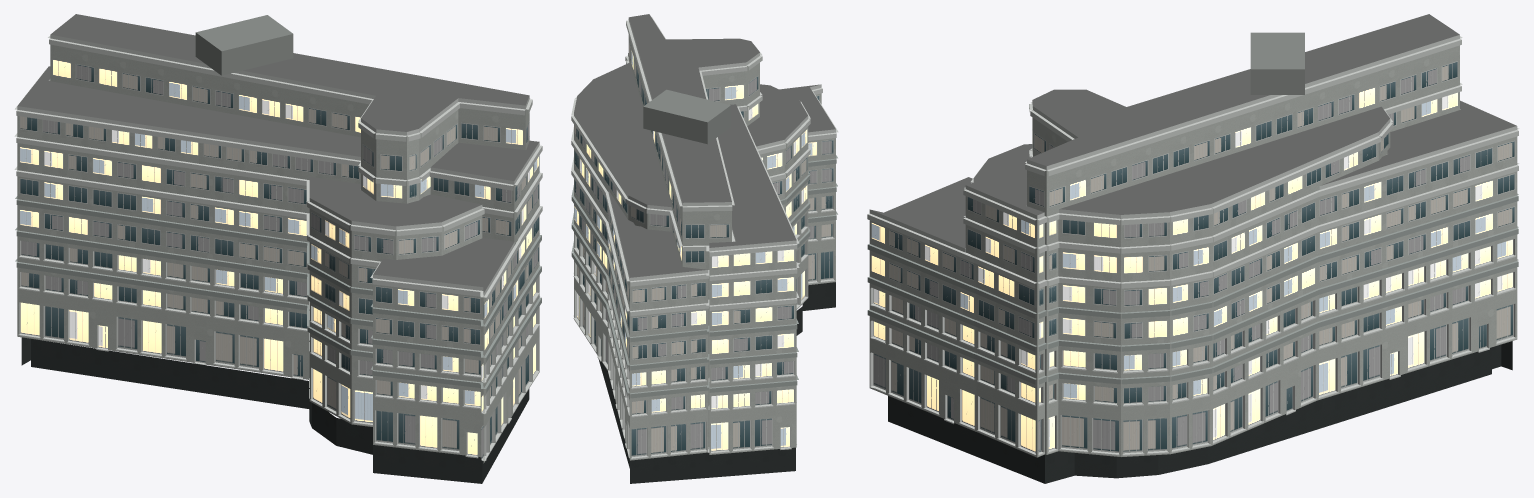
The model's file is apollo.glb.
The picture shows the model from 3 angles, left to right: view 1: azimuth 30°, elevation 25°; view 2: azimuth 150°, elevation 25°; view 3: azimuth 270°, elevation 25°; orthographic projection. The views are drawn at different scales.
Visible parts, largest first — view 1: apollo; view 2: apollo; view 3: apollo.
Part boxes in pixels (x1,y1,x2,y2): apollo: (14,14,542,483); apollo: (571,14,838,483); apollo: (867,14,1519,483).
Bounding box in the file's own units: 39.98 × 34.86 × 59.91.
3 materials, 3 textured.
